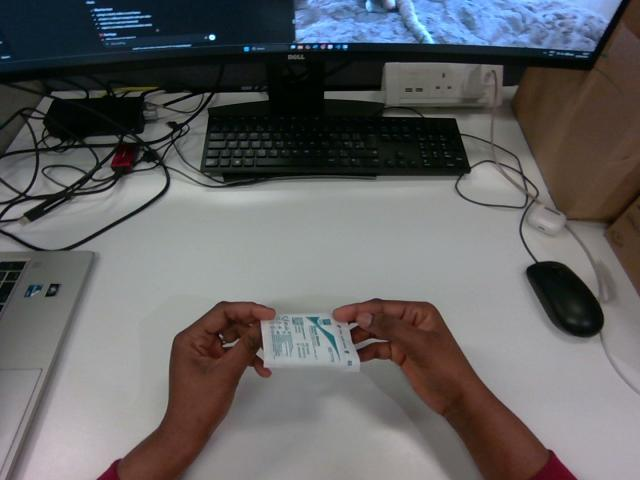gauze: (261, 314, 359, 371)
